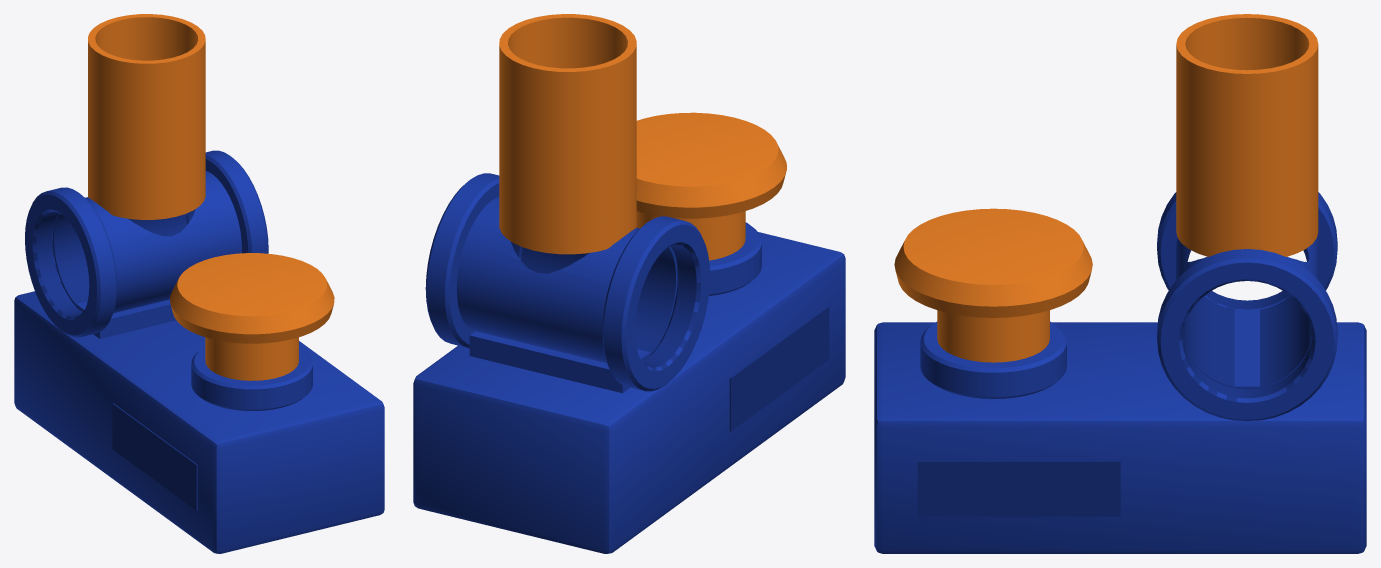
3 views of the same model, side by side, from view 1: azimuth 30°, elevation 25°; view 2: azimuth 150°, elevation 25°; view 3: azimuth 270°, elevation 25° (orthographic). The views are drawn at different scales.
Parts seen in each view (by area): view 1: M-02; view 2: M-02; view 3: M-02.
Boxes of the visible parts, <box> form: M-02: <box>14,14,384,553</box>; M-02: <box>413,14,845,553</box>; M-02: <box>874,14,1366,553</box>.
Bounding box in the file's own units: 0.0429 × 0.0906 × 0.0873.
